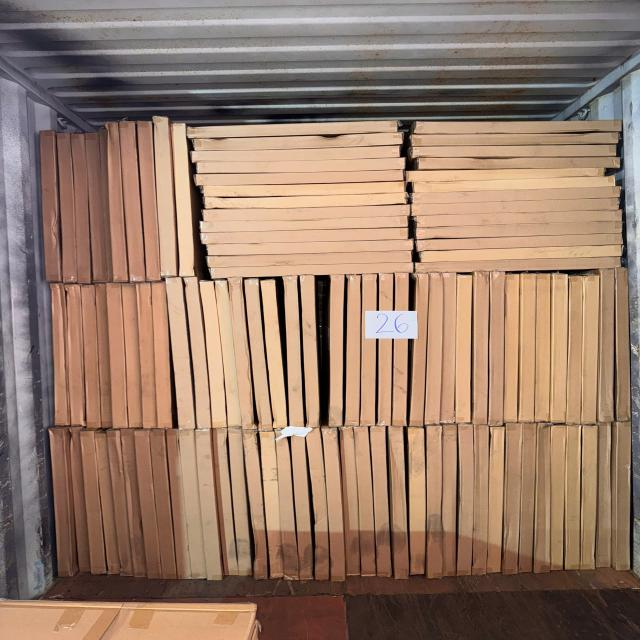Carton: (242, 279, 275, 431), (413, 207, 627, 230), (226, 277, 258, 430), (166, 276, 197, 432), (187, 119, 406, 141), (214, 280, 246, 430), (252, 430, 284, 580), (415, 230, 629, 252), (414, 219, 624, 241), (206, 237, 414, 259), (48, 427, 78, 577), (240, 430, 270, 580), (168, 123, 197, 278), (178, 431, 208, 580), (409, 128, 618, 149), (164, 429, 193, 580), (194, 430, 223, 580), (302, 427, 330, 581), (190, 132, 403, 152), (411, 178, 623, 198), (192, 144, 402, 164), (260, 279, 288, 429), (200, 280, 228, 430), (150, 430, 178, 579), (202, 203, 410, 223), (120, 121, 146, 281), (274, 428, 301, 582), (288, 428, 315, 582), (203, 190, 410, 210), (105, 429, 133, 576), (212, 429, 240, 576), (411, 174, 615, 194), (419, 244, 623, 264), (151, 117, 176, 280), (94, 431, 122, 576), (385, 425, 411, 580), (197, 215, 409, 234), (136, 120, 161, 280), (119, 430, 146, 578), (194, 167, 404, 186), (438, 270, 464, 423), (412, 197, 621, 216), (65, 428, 92, 574), (103, 279, 129, 430), (83, 132, 109, 282), (203, 178, 406, 197), (410, 144, 624, 162), (227, 430, 253, 577), (188, 279, 213, 431), (195, 156, 406, 174), (411, 186, 621, 204), (199, 228, 408, 246), (203, 278, 228, 428), (80, 429, 106, 573), (207, 249, 412, 267), (38, 130, 62, 283), (280, 276, 304, 428), (136, 428, 160, 578), (341, 424, 364, 580), (106, 122, 128, 283), (470, 270, 493, 424), (63, 282, 87, 428), (48, 281, 72, 427), (208, 262, 414, 279), (416, 256, 622, 273), (69, 133, 92, 284), (503, 422, 526, 572), (354, 424, 376, 580), (596, 268, 618, 424), (323, 427, 345, 582), (406, 271, 428, 426), (486, 270, 508, 424), (581, 272, 603, 426), (81, 282, 104, 429), (517, 270, 539, 423), (452, 270, 474, 423), (422, 271, 444, 424), (549, 271, 571, 423), (415, 119, 624, 135), (564, 273, 586, 424), (56, 133, 78, 283), (372, 424, 393, 580), (612, 422, 634, 569), (376, 272, 397, 426), (358, 273, 379, 425), (532, 271, 553, 422), (457, 424, 478, 575), (137, 282, 158, 432), (123, 282, 144, 431), (415, 156, 622, 171), (613, 267, 633, 422), (425, 425, 445, 579), (408, 425, 428, 579), (300, 275, 320, 429), (503, 271, 523, 424), (342, 274, 362, 427), (152, 280, 172, 432), (406, 168, 608, 183), (518, 422, 538, 572), (486, 423, 506, 573), (532, 422, 552, 570), (549, 423, 569, 569), (327, 275, 346, 428), (596, 422, 616, 567), (92, 283, 112, 428), (473, 422, 492, 574), (563, 424, 583, 568), (581, 423, 601, 567), (441, 423, 459, 578), (392, 271, 410, 425)
